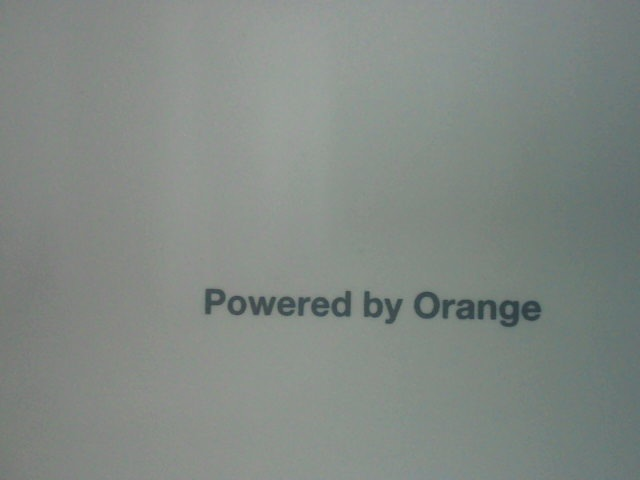AS_PowerByOrange: (199, 284, 547, 331)
